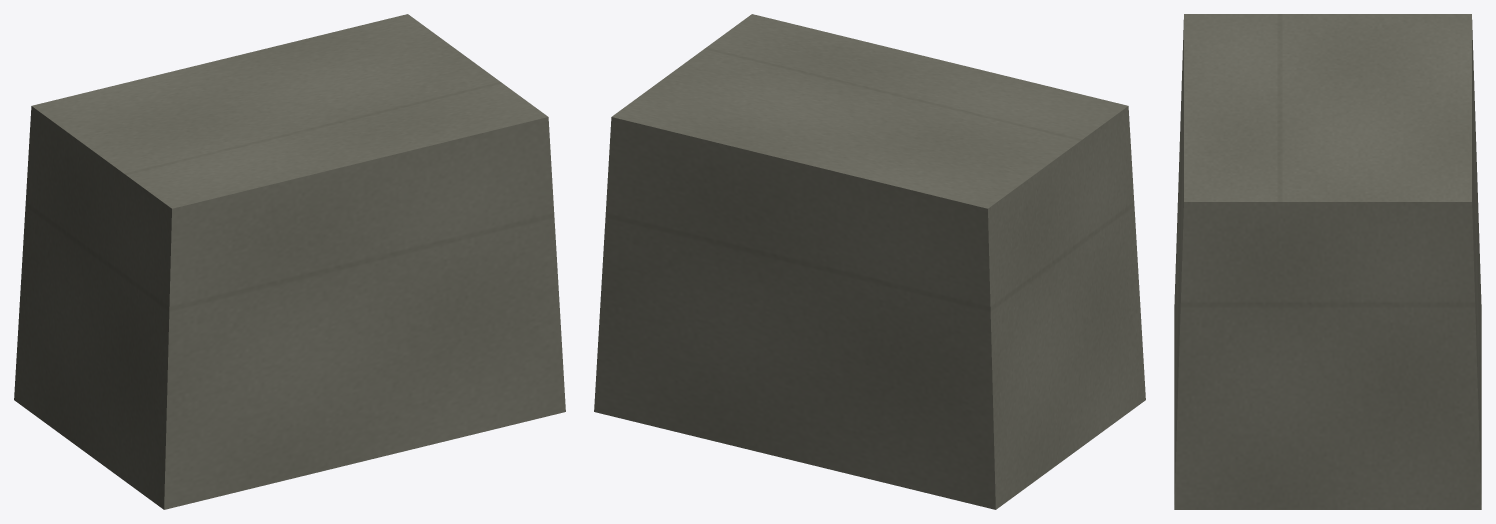
Rendered from rough_stone.glb.
3 views of the same model, side by side, from view 1: azimuth 30°, elevation 25°; view 2: azimuth 150°, elevation 25°; view 3: azimuth 270°, elevation 25° (orthographic). The views are drawn at different scales.
Visible parts, largest first — view 1: rough_stone; view 2: rough_stone; view 3: rough_stone.
Boxes of the visible parts, x1,y1,x2,y2 form: rough_stone: (14,14,565,509); rough_stone: (594,14,1145,509); rough_stone: (1174,14,1481,509).
Bounding box in the file's own units: 0.5934 × 0.4158 × 0.384.
Materials: 1 (1 with a texture image).
